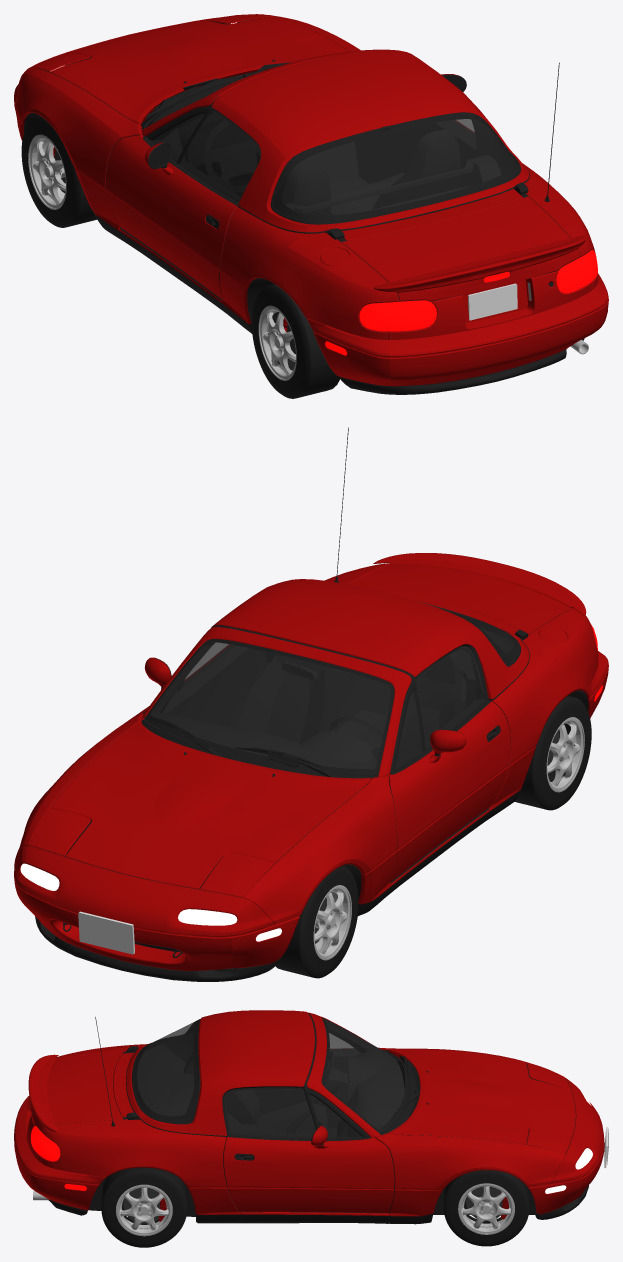
Rendered from miata.glb.
3 views of the same model, one above another, from view 1: azimuth 30°, elevation 25°; view 2: azimuth 150°, elevation 25°; view 3: azimuth 270°, elevation 25° (orthographic). The views are drawn at different scales.
Parts seen in each view (by area): view 1: Mazda MX5 Miata_4, Rear Wheels_3, Front Left Wheels_0, Pop ups_2; view 2: Mazda MX5 Miata_4, Front Left Wheels_0, Rear Wheels_3, Pop ups_2; view 3: Mazda MX5 Miata_4, Rear Wheels_3, Front Right Wheels_1, Pop ups_2.
Boxes of the visible parts, x1,y1,x2,y2 form: Mazda MX5 Miata_4: (14, 15, 608, 394); Rear Wheels_3: (251, 284, 340, 398); Front Left Wheels_0: (21, 115, 96, 227); Pop ups_2: (30, 14, 274, 71); Mazda MX5 Miata_4: (14, 427, 608, 981); Front Left Wheels_0: (275, 865, 358, 978); Rear Wheels_3: (515, 695, 591, 810); Pop ups_2: (29, 808, 275, 897); Mazda MX5 Miata_4: (14, 1010, 608, 1224); Rear Wheels_3: (101, 1167, 187, 1247); Front Right Wheels_1: (443, 1170, 529, 1246); Pop ups_2: (526, 1063, 571, 1154).
Size of the model in its own units: 0.7204 by 0.6371 by 1.57.
